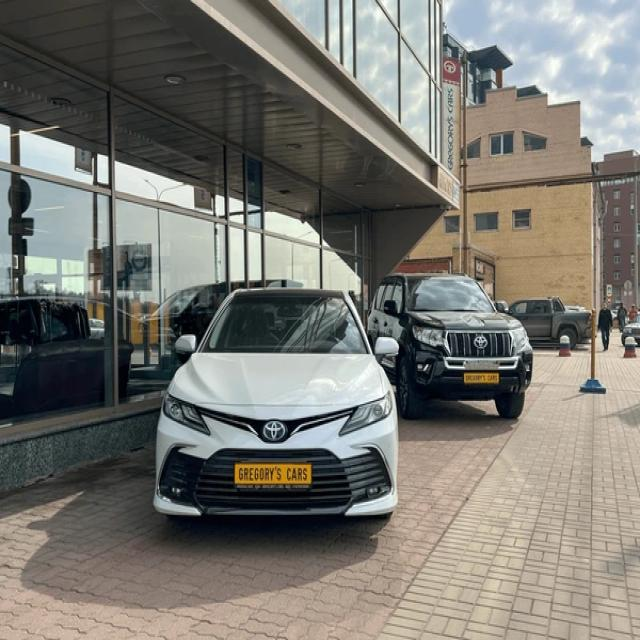toyota: (261, 420, 289, 440)
